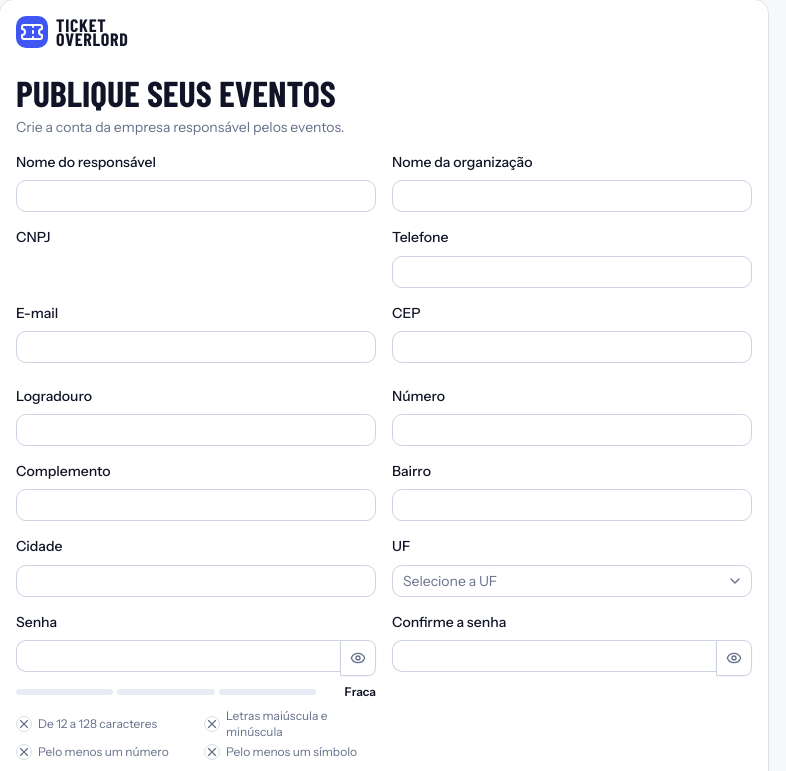
it: OrganizerRegistrationCard › shows every Brazilian federative unit in the UF selector
Click the dropdown labelled "UF". click: (450, 580)
box: [392,564,752,596]
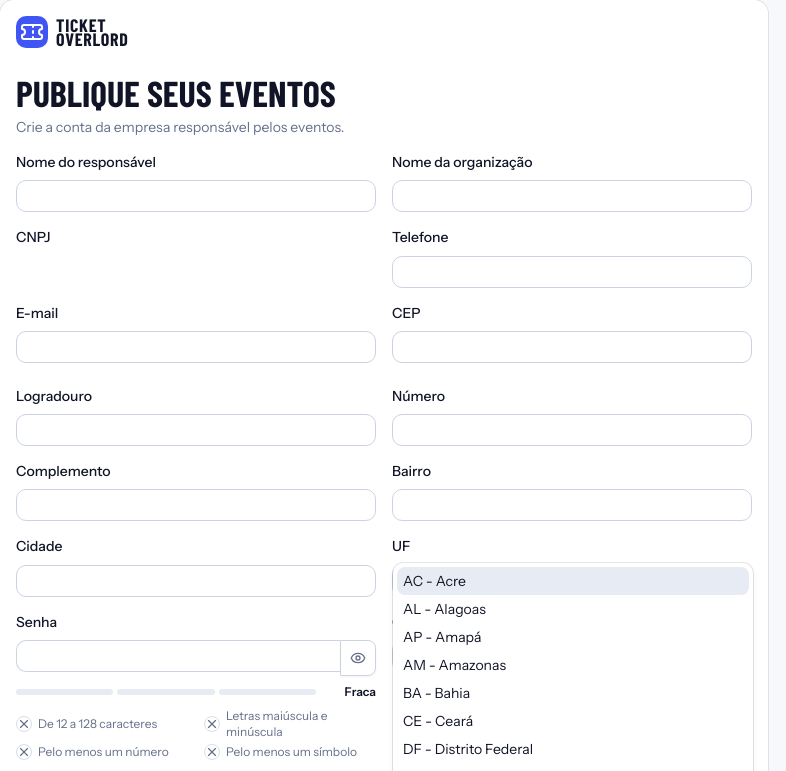
Now the option "DF - Distrito Federal" is shown, box [403,740,533,758]
